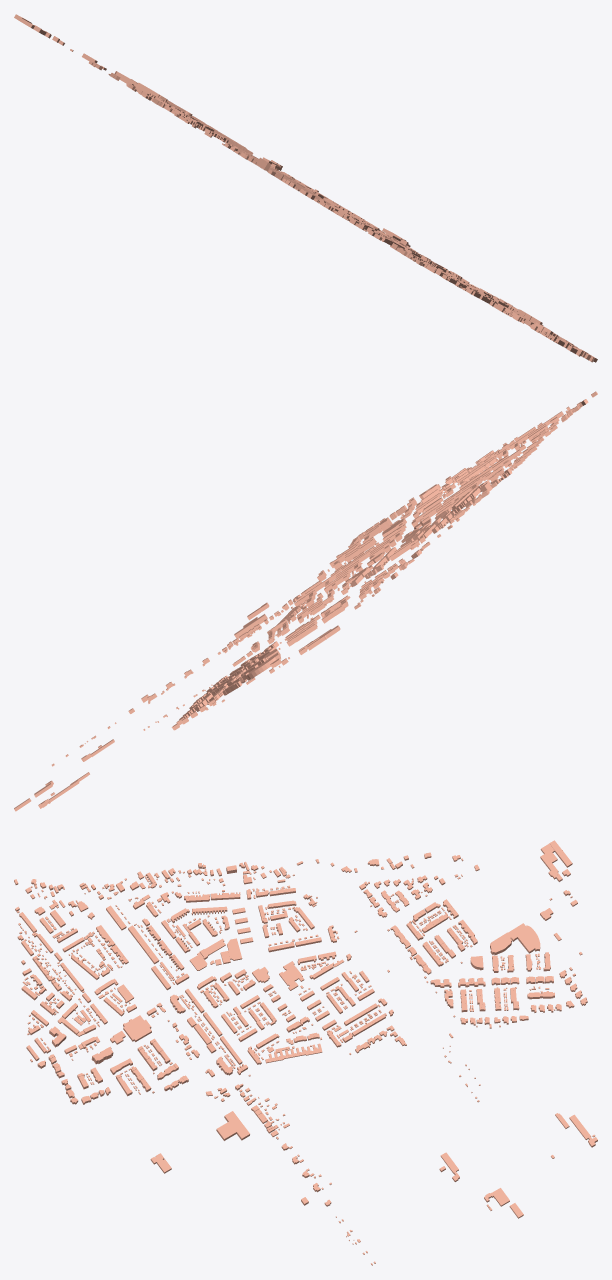
The picture shows the model from 3 angles, top to bottom: view 1: azimuth 30°, elevation 25°; view 2: azimuth 150°, elevation 25°; view 3: azimuth 270°, elevation 25°; orthographic projection. The views are drawn at different scales.
Bounding box in the file's own units: 818 × 620 × 1243.
